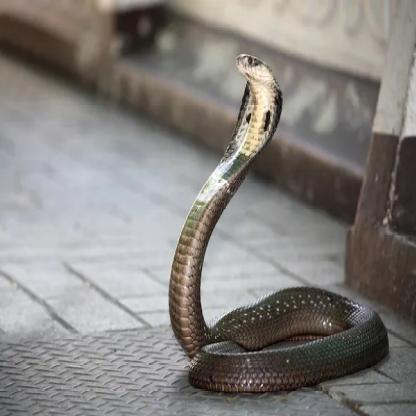Snake: (164, 50, 390, 392)
